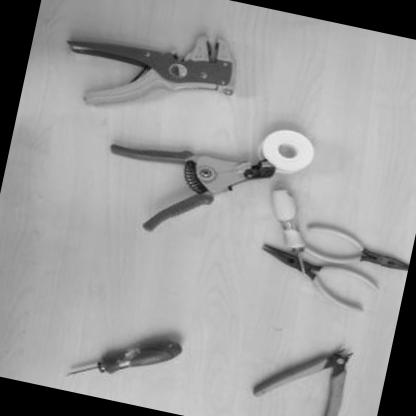Screwdriver: (59, 310, 189, 401), (250, 180, 328, 280)
